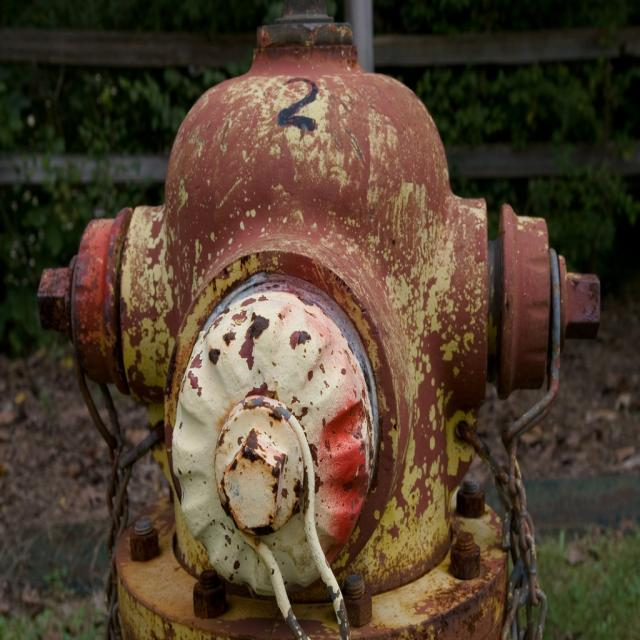fire_hydrant: (40, 0, 603, 639)
